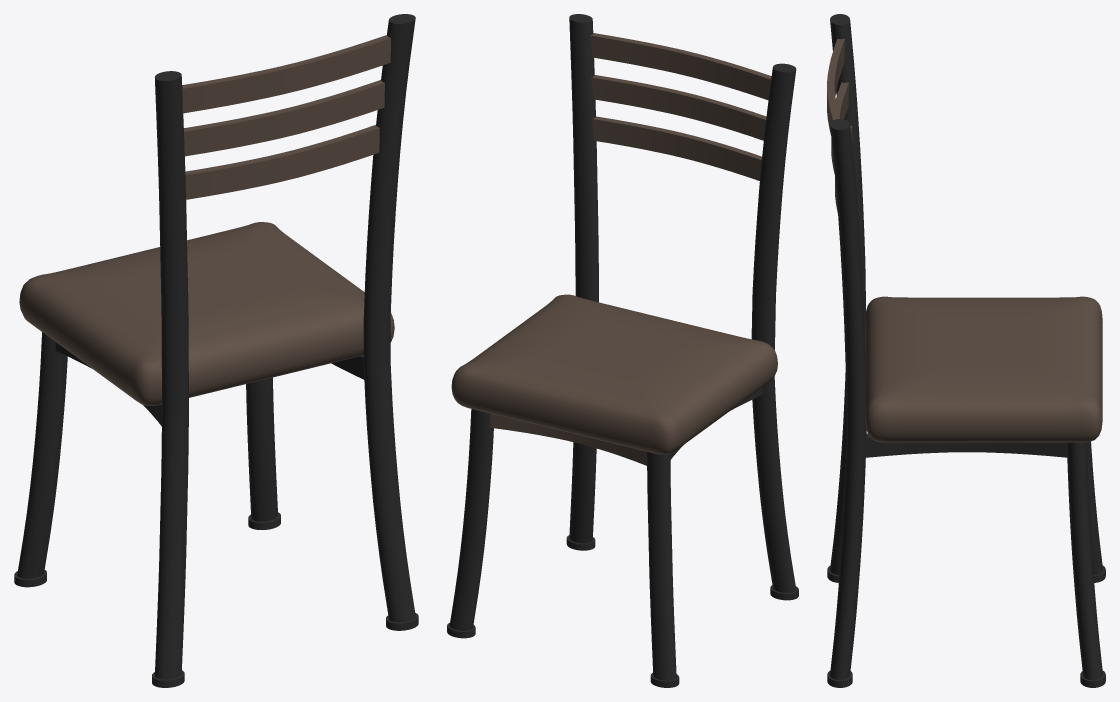
Rendered from Chaise1_10.fbx.
The picture shows the model from 3 angles, left to right: view 1: azimuth 30°, elevation 25°; view 2: azimuth 150°, elevation 25°; view 3: azimuth 270°, elevation 25°; orthographic projection. The views are drawn at different scales.
Parts seen in each view (by area): view 1: pCube2654, pCylinder1646, pCylinder1647, pCylinder1651, pCylinder1650, pCylinder1648, pCube2653, pCube2652, pCube2651, pCylinder1649; view 2: pCube2654, pCylinder1646, pCylinder1647, pCylinder1648, pCylinder1649, pCylinder1651, pCube2653, pCube2652, pCube2651, pCylinder1650, pCube2659; view 3: pCube2654, pCylinder1647, pCylinder1650, pCylinder1649, pCylinder1646, pCube2655, pCylinder1651, pCylinder1648, pCube2653, pCube2652.
Part boxes in pixels (x1,y1,x2,y2): pCube2654: (19, 222, 394, 405); pCylinder1646: (154, 71, 188, 416); pCylinder1647: (363, 14, 415, 367); pCylinder1651: (152, 411, 188, 687); pCylinder1650: (363, 362, 418, 630); pCylinder1648: (14, 332, 67, 587); pCube2653: (182, 35, 391, 113); pCube2652: (184, 80, 384, 156); pCube2651: (185, 125, 379, 199); pCylinder1649: (246, 377, 280, 529); pCube2654: (451, 294, 777, 454); pCylinder1646: (751, 63, 796, 349); pCylinder1647: (569, 14, 598, 302); pCylinder1648: (647, 452, 679, 687); pCylinder1649: (447, 409, 493, 638); pCylinder1651: (752, 376, 798, 600); pCube2653: (590, 33, 771, 100); pCube2652: (591, 75, 766, 140); pCube2651: (592, 116, 761, 180); pCylinder1650: (566, 442, 596, 550); pCube2659: (490, 413, 646, 465); pCube2654: (865, 296, 1102, 442); pCylinder1647: (830, 119, 866, 440); pCylinder1650: (827, 436, 865, 687); pCylinder1649: (1067, 442, 1105, 687); pCylinder1646: (830, 14, 866, 337); pCube2655: (865, 433, 1067, 457); pCylinder1651: (827, 373, 846, 582); pCylinder1648: (1087, 441, 1105, 582); pCube2653: (827, 38, 844, 134); pCube2652: (831, 82, 848, 174).
Size of the model in its own units: 38.53 by 84.55 by 38.35.
